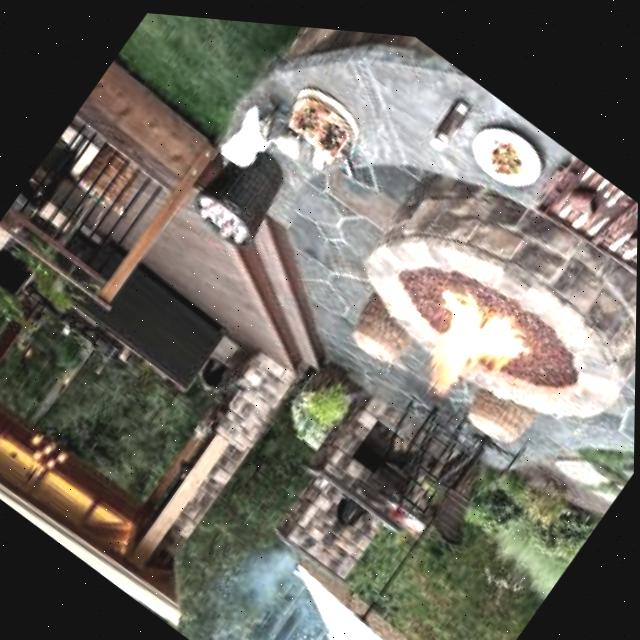Fire: (412, 279, 528, 414)
